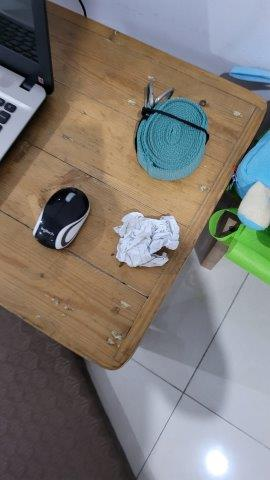kertas: (111, 209, 182, 273)
